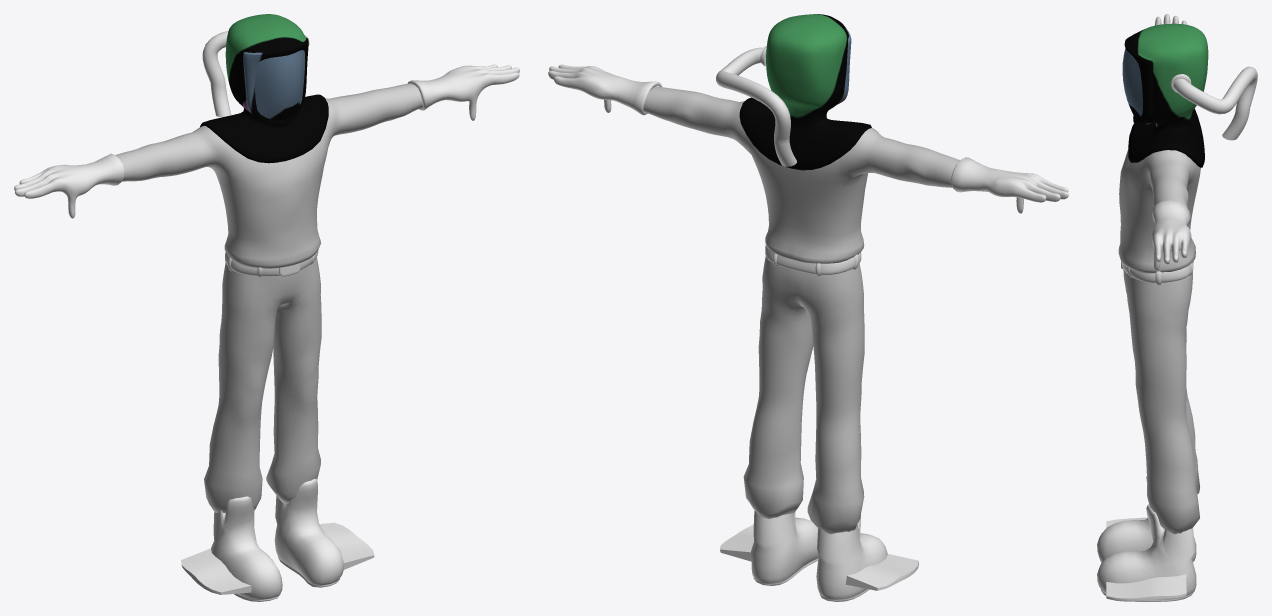
File: Water_Guy_New31.fbx
3 views of the same model, side by side, from view 1: azimuth 30°, elevation 25°; view 2: azimuth 150°, elevation 25°; view 3: azimuth 270°, elevation 25° (orthographic). The views are drawn at different scales.
Parts seen in each view (by area): view 1: Legs, Shirt, leftfoot, Helm, Gloves, Visor, oxygentube, Cube; view 2: Legs, Shirt, Helm, leftfoot, Gloves, oxygentube, Cube; view 3: Legs, Helm, leftfoot, Shirt, oxygentube, Gloves, Visor, Cube.
Part boxes in pixels (x1,y1,x2,y2): Legs: (204, 257, 321, 513); Shirt: (115, 83, 422, 268); leftfoot: (181, 478, 374, 601); Helm: (200, 14, 328, 163); Gloves: (14, 64, 519, 218); Visor: (255, 50, 305, 120); oxygentube: (202, 30, 309, 117); Cube: (225, 250, 318, 277); Legs: (743, 256, 864, 534); Shirt: (643, 86, 960, 263); Helm: (739, 14, 871, 170); leftfoot: (720, 510, 918, 601); Gloves: (548, 64, 1068, 213); oxygentube: (716, 46, 796, 166); Cube: (765, 245, 861, 276); Legs: (1123, 269, 1199, 534); Helm: (1124, 23, 1208, 167); leftfoot: (1097, 476, 1196, 601); Shirt: (1118, 150, 1200, 273); oxygentube: (1170, 66, 1257, 140); Gloves: (1151, 14, 1191, 270); Visor: (1122, 48, 1142, 117); Cube: (1121, 261, 1193, 285).
Size of the model in its own units: 457 by 474 by 126.
